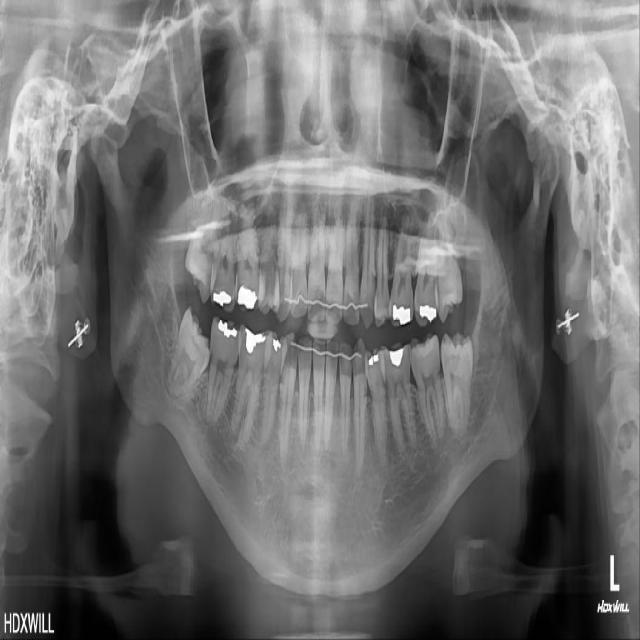3M ESPE Implant: (178, 184, 234, 305)
52: (232, 323, 276, 372), (204, 315, 246, 366), (209, 258, 240, 312), (378, 343, 412, 391), (258, 330, 291, 379), (233, 262, 264, 312), (413, 276, 439, 328), (389, 278, 414, 328), (363, 347, 387, 392)
73: (610, 568, 614, 574)
BioHorizons Implant: (412, 212, 439, 327)
BioLife Implant: (427, 191, 465, 324)
Biomet 3i Implant: (441, 332, 473, 441)
Blue Sky Bio Implant: (407, 331, 446, 452)
Caries: (209, 190, 240, 313)
Implant: (201, 316, 244, 430)
Keystone Dental Implant: (163, 304, 221, 404)
